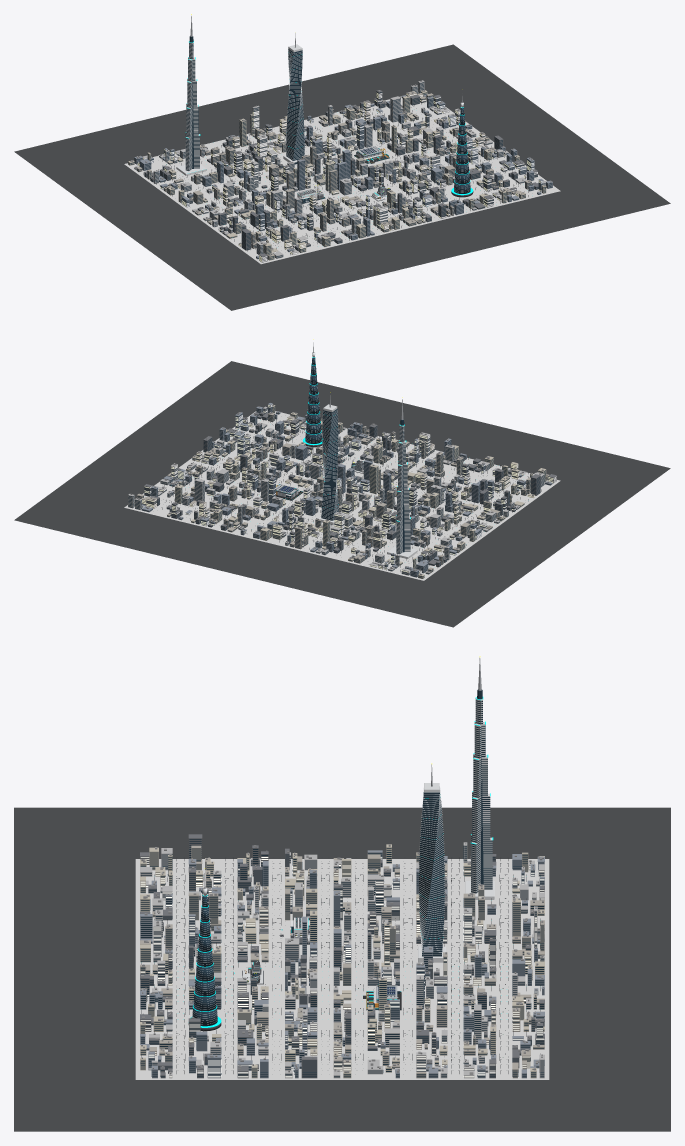
The model's file is SF_City_Lobby.fbx.
3 views of the same model, one above another, from view 1: azimuth 30°, elevation 25°; view 2: azimuth 150°, elevation 25°; view 3: azimuth 270°, elevation 25° (orthographic). The views are drawn at different scales.
Parts seen in each view (by area): view 1: Ground, Fillers_Windows, City_GroundBaked, Fillers_ConcreteLight, Fillers_GreyDark, Fillers_BlueGrey, Fillers_Beige, Fillers_ConcreteWarm, Fillers_WindowsLit, Fillers_RoofUnits, TowerA_Glass, TowerC_Wings (+3 smaller); view 2: Ground, Fillers_Windows, City_GroundBaked, Fillers_ConcreteLight, Fillers_BlueGrey, Fillers_GreyDark, Fillers_ConcreteWarm, Fillers_Beige, Fillers_WindowsLit, Fillers_RoofUnits, TowerA_Glass, TowerC_Wings (+3 smaller); view 3: Ground, City_GroundBaked, Fillers_Windows, Fillers_ConcreteLight, Fillers_BlueGrey, Fillers_GreyDark, Fillers_ConcreteWarm, Fillers_Beige, Fillers_RoofUnits, Fillers_WindowsLit, TowerA_Glass, TowerC_Wings (+5 smaller).
Boxes of the visible parts, x1,y1,x2,y2 form: Ground: (14, 44, 670, 310); Fillers_Windows: (128, 82, 552, 259); City_GroundBaked: (124, 92, 560, 264); Fillers_ConcreteLight: (134, 80, 546, 258); Fillers_GreyDark: (144, 90, 538, 262); Fillers_BlueGrey: (134, 94, 552, 259); Fillers_Beige: (128, 90, 546, 260); Fillers_ConcreteWarm: (136, 91, 531, 248); Fillers_WindowsLit: (137, 93, 543, 261); Fillers_RoofUnits: (130, 80, 551, 255); TowerA_Glass: (286, 49, 304, 160); TowerC_Wings: (185, 41, 199, 171); Ground: (14, 361, 670, 627); Fillers_Windows: (128, 406, 552, 578); City_GroundBaked: (124, 409, 560, 580); Fillers_ConcreteLight: (128, 406, 544, 575); Fillers_BlueGrey: (141, 403, 552, 577); Fillers_GreyDark: (144, 412, 556, 569); Fillers_ConcreteWarm: (137, 413, 530, 572); Fillers_Beige: (134, 405, 549, 578); Fillers_WindowsLit: (142, 404, 556, 573); Fillers_RoofUnits: (130, 404, 549, 574); TowerA_Glass: (321, 408, 338, 520); TowerC_Wings: (396, 425, 410, 554); Ground: (14, 807, 670, 1131); City_GroundBaked: (135, 859, 549, 1079); Fillers_Windows: (140, 839, 544, 1077); Fillers_ConcreteLight: (140, 842, 544, 1078); Fillers_BlueGrey: (140, 850, 544, 1078); Fillers_GreyDark: (140, 834, 544, 1078); Fillers_ConcreteWarm: (140, 845, 544, 1078); Fillers_Beige: (140, 844, 544, 1078); Fillers_RoofUnits: (140, 843, 543, 1074); Fillers_WindowsLit: (140, 857, 544, 1077); TowerA_Glass: (419, 792, 444, 956); TowerC_Wings: (471, 698, 492, 893).
Size of the model in its own units: 1260 by 427 by 1080.
